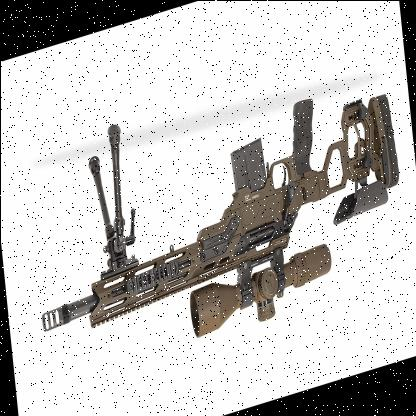rifle: (2, 85, 416, 386)
